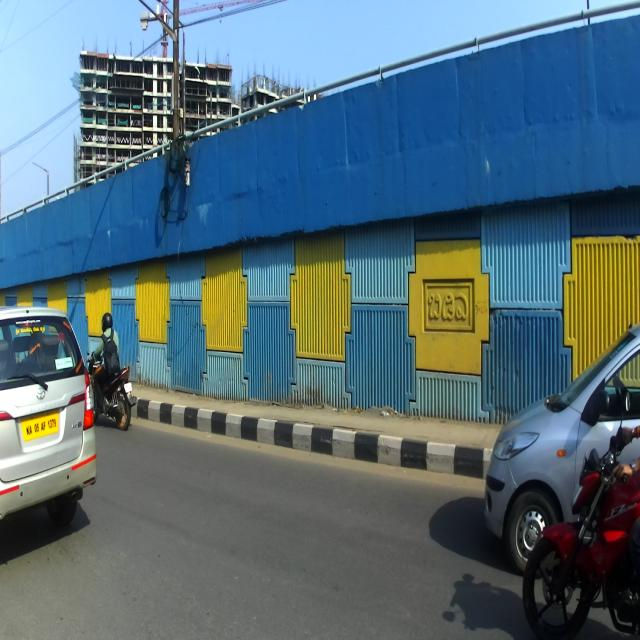car ahead at: (487, 314, 640, 544), (0, 300, 97, 542)
motorcycle ahead at: (524, 457, 639, 640), (94, 359, 134, 427)
